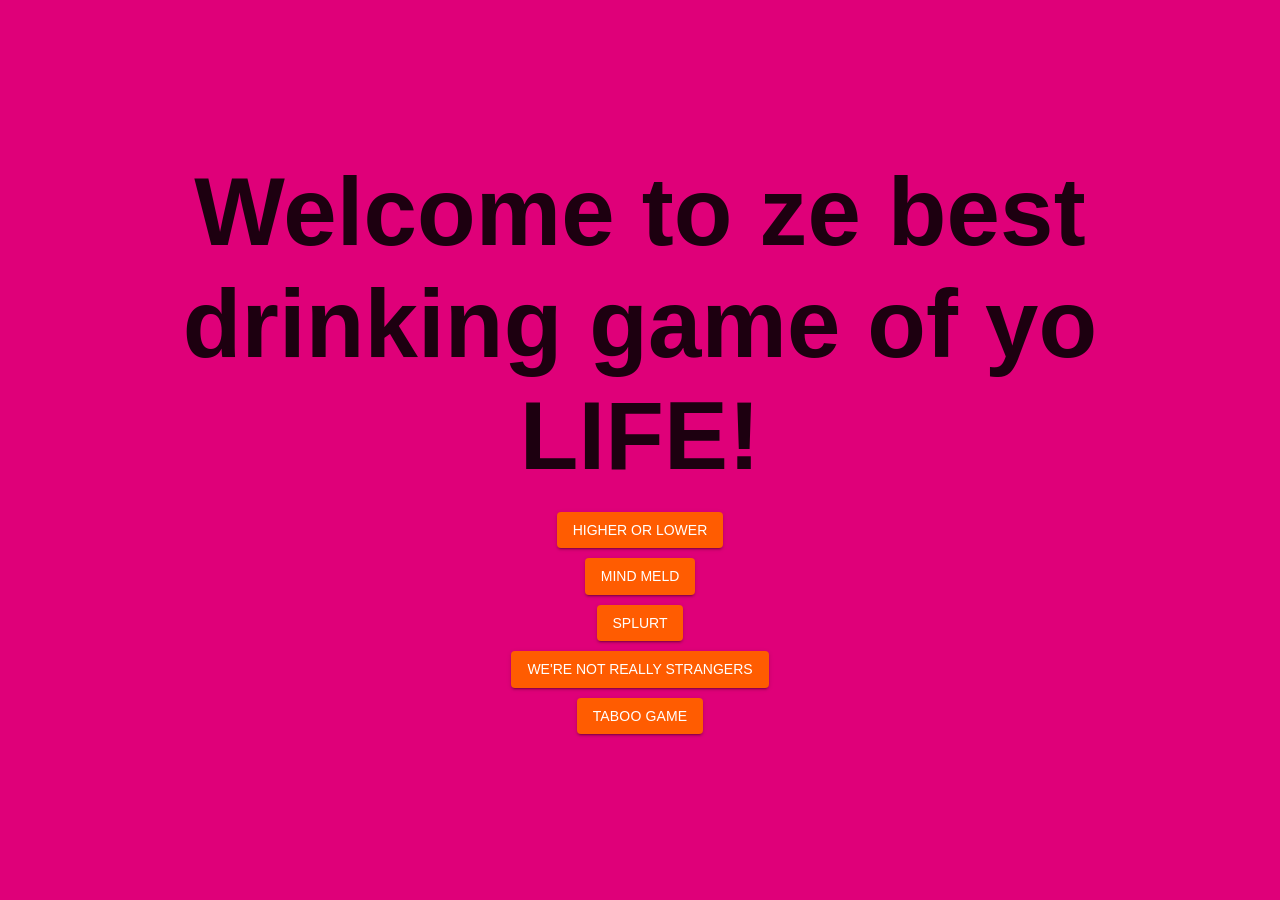
renders the main game page and routes into Splurt
Expected: the text "Welcome to ze best drinking game of yo LIFE!" is shown, [183, 158, 1097, 489]
What coordinates should you click on to do the following:
click the button "splurt"
I would click on:
 (640, 623)
Its box is [596, 605, 684, 641].
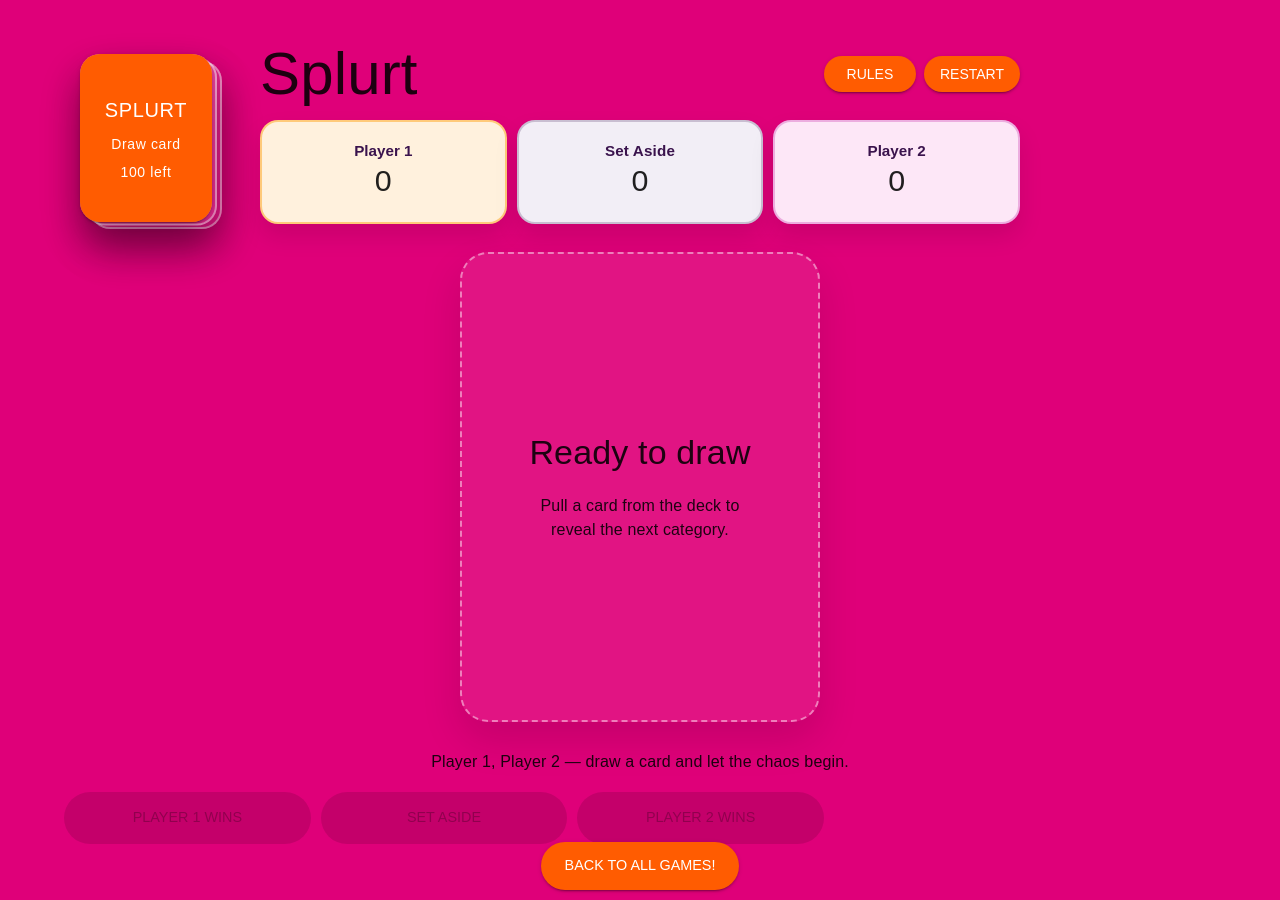
Expected: the heading "Splurt" is shown, [260, 38, 418, 110]
Expected: the button with aria-label "draw from splurt deck" is shown, [80, 54, 212, 222]
